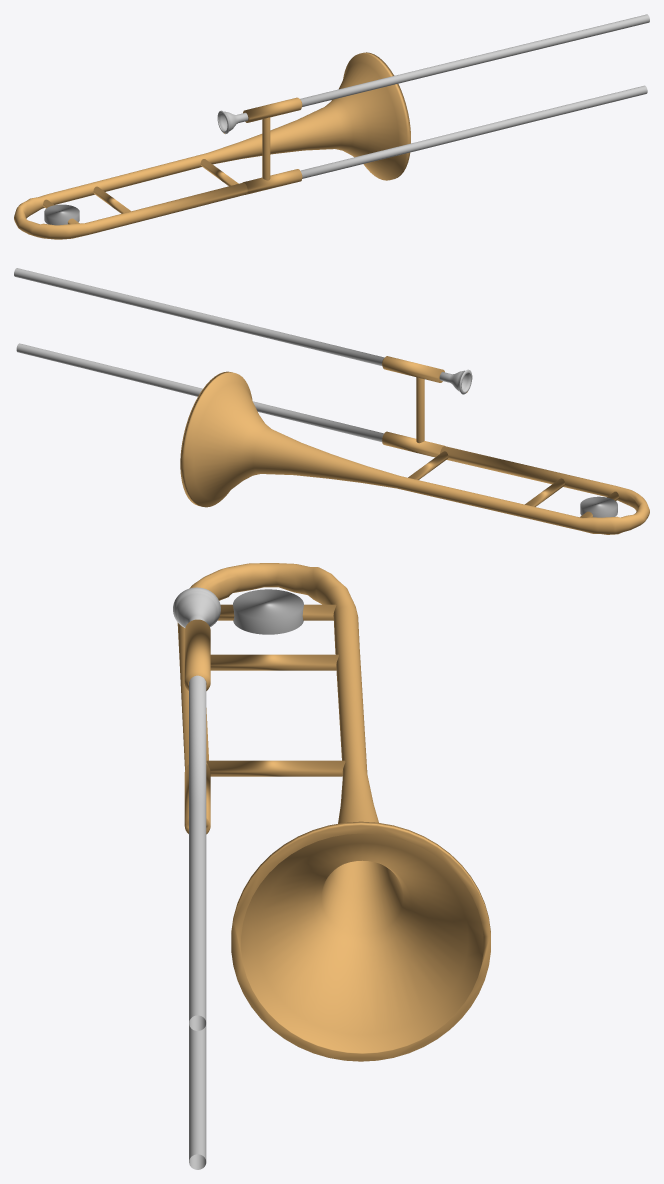
The model's file is trombone.gltf.
The picture shows the model from 3 angles, top to bottom: view 1: azimuth 30°, elevation 25°; view 2: azimuth 150°, elevation 25°; view 3: azimuth 270°, elevation 25°; orthographic projection. The views are drawn at different scales.
Parts seen in each view (by area): view 1: Cylinder.007, Cylinder.011; view 2: Cylinder.007, Cylinder.011; view 3: Cylinder.007, Cylinder.011.
Part boxes in pixels (x1,y1,x2,y2): Cylinder.007: (14, 52, 410, 239); Cylinder.011: (300, 14, 649, 178); Cylinder.007: (180, 356, 649, 534); Cylinder.011: (14, 268, 384, 441); Cylinder.007: (173, 563, 490, 1061); Cylinder.011: (189, 675, 206, 1169).
Size of the model in its own units: 8.72 by 1.93 by 1.96.
